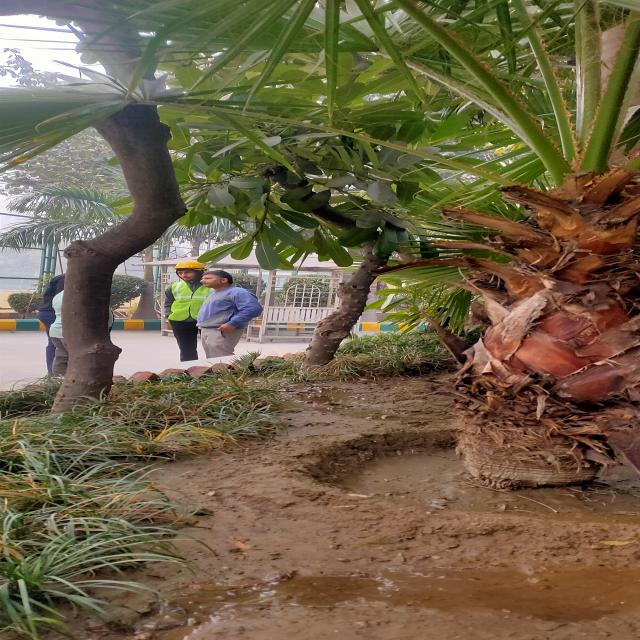safe: (173, 262, 209, 371)
unsafe: (206, 271, 258, 362)
